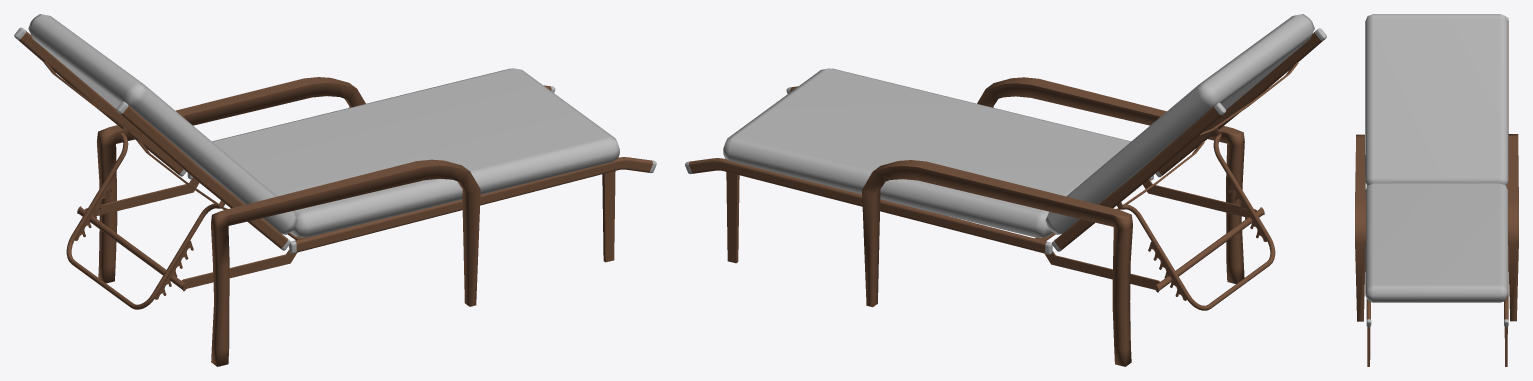
Rendered from SunBed2.fbx.
3 renders of one model, left to right at view 1: azimuth 30°, elevation 25°; view 2: azimuth 150°, elevation 25°; view 3: azimuth 270°, elevation 25°, orthographic. The views are drawn at different scales.
Visible parts, largest first — view 1: lezhak_2; view 2: lezhak_2; view 3: lezhak_2.
Part boxes in pixels (x1,y1,x2,y2): lezhak_2: (14,14,656,366); lezhak_2: (685,14,1326,366); lezhak_2: (1355,14,1518,366).
Size of the model in its own units: 186 by 96.81 by 72.32.
